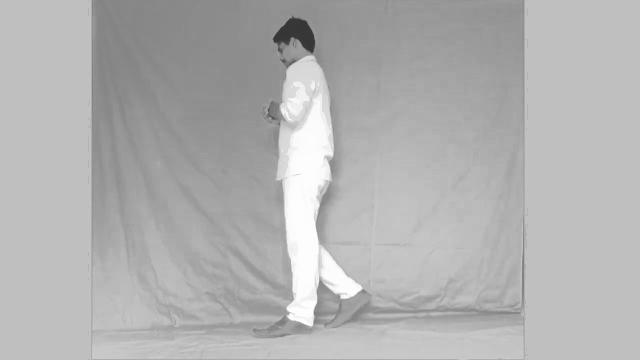berjalan: (250, 12, 372, 342)
